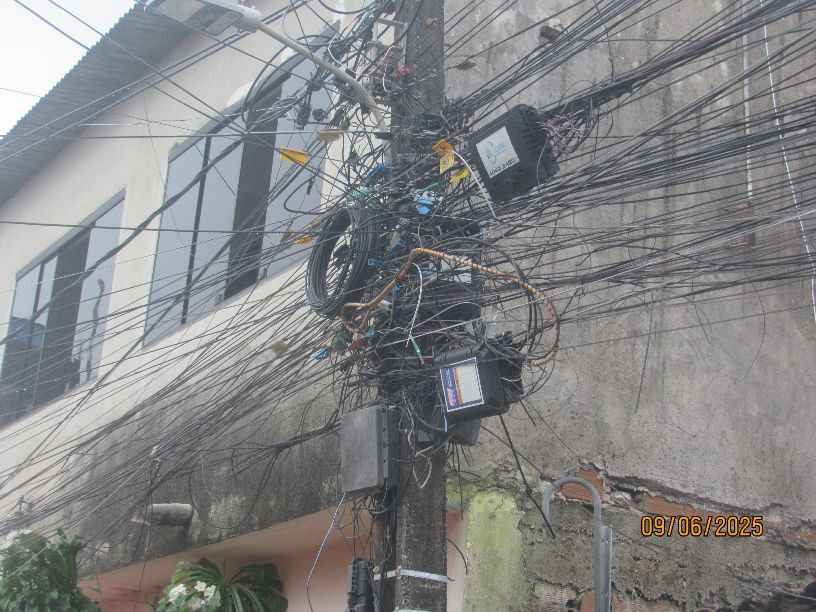caixa_derivacao: (424, 328, 527, 423), (464, 105, 565, 201), (339, 396, 399, 503), (344, 556, 376, 611)
tronco_metalico: (305, 193, 376, 317)
